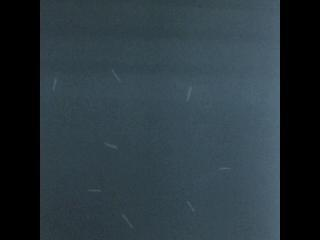scratch: (203, 162, 235, 180), (181, 197, 201, 224), (106, 62, 127, 85), (116, 206, 136, 230), (178, 79, 196, 103), (47, 72, 62, 97), (101, 139, 122, 154), (83, 184, 105, 197)
